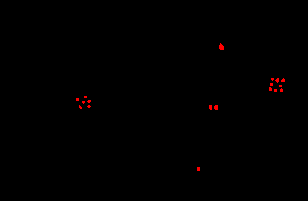Target: (219, 43, 224, 50), (275, 78, 279, 83), (214, 105, 218, 110), (281, 78, 285, 82), (209, 105, 212, 110), (269, 87, 272, 91), (280, 88, 283, 92), (87, 100, 91, 103), (79, 105, 82, 109), (87, 105, 91, 108), (197, 167, 200, 171), (271, 78, 274, 81), (270, 83, 273, 86), (274, 89, 277, 92), (76, 98, 79, 101), (82, 101, 85, 104), (279, 85, 282, 87), (84, 96, 87, 98)
